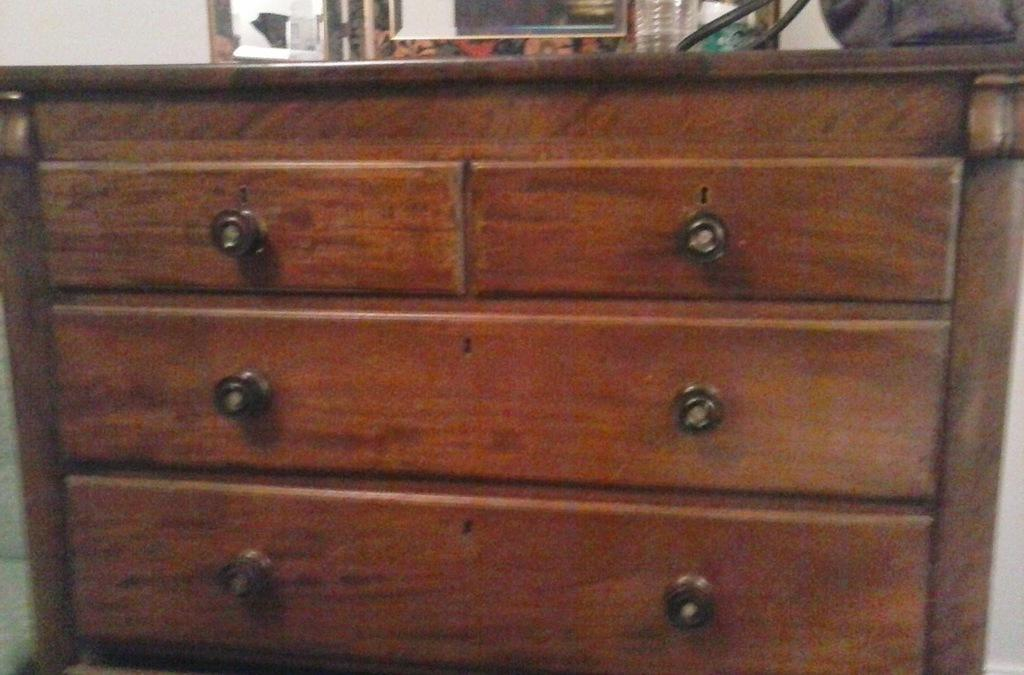cabinet_door: (51, 302, 952, 508), (61, 472, 936, 675), (465, 163, 955, 299), (36, 158, 462, 294)
handle: (658, 572, 726, 638), (208, 204, 270, 266), (671, 383, 724, 444), (681, 210, 735, 269), (214, 554, 268, 606), (216, 373, 266, 417)
